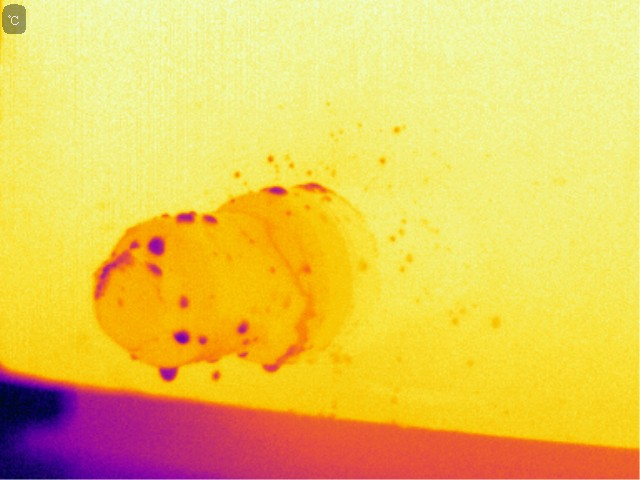Water: (264, 231, 321, 363), (146, 230, 177, 264), (147, 360, 187, 384), (258, 181, 293, 202), (296, 180, 334, 198), (170, 204, 202, 225), (169, 324, 195, 349), (141, 262, 167, 279), (206, 367, 229, 385), (231, 316, 250, 336), (171, 294, 194, 310), (261, 358, 282, 375), (386, 226, 408, 242), (387, 121, 408, 135), (200, 209, 217, 226), (486, 316, 504, 330), (197, 330, 212, 346), (202, 354, 223, 365), (234, 350, 254, 360), (126, 352, 142, 363), (265, 154, 279, 166), (157, 208, 172, 219), (375, 155, 388, 165), (233, 168, 246, 177)
